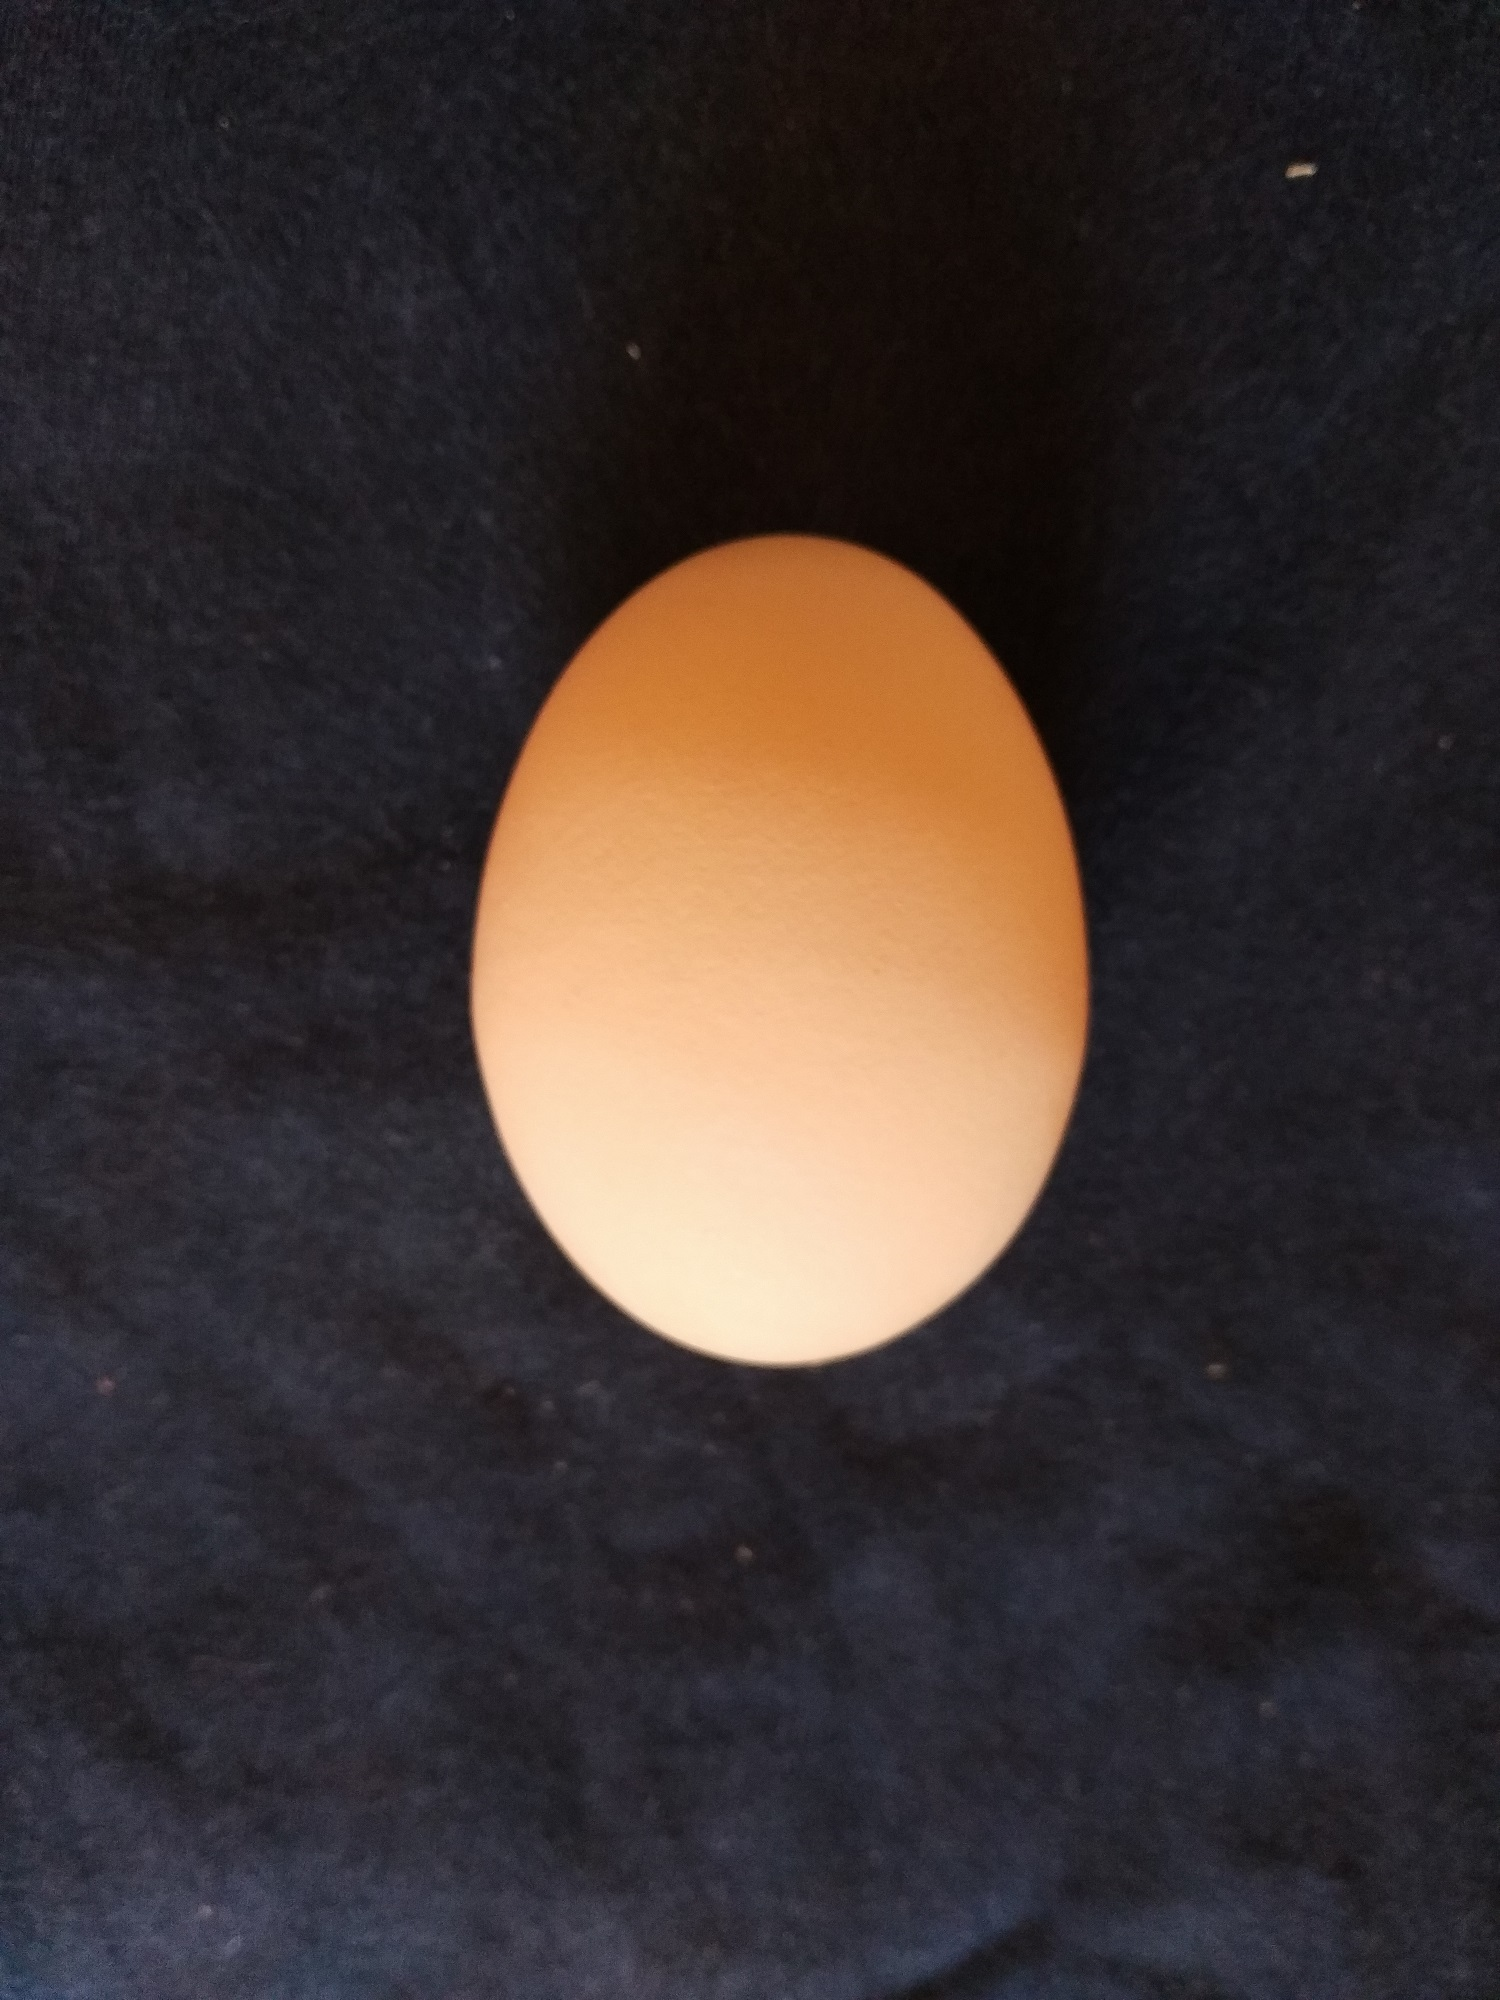Female: (463, 531, 1095, 1369)
